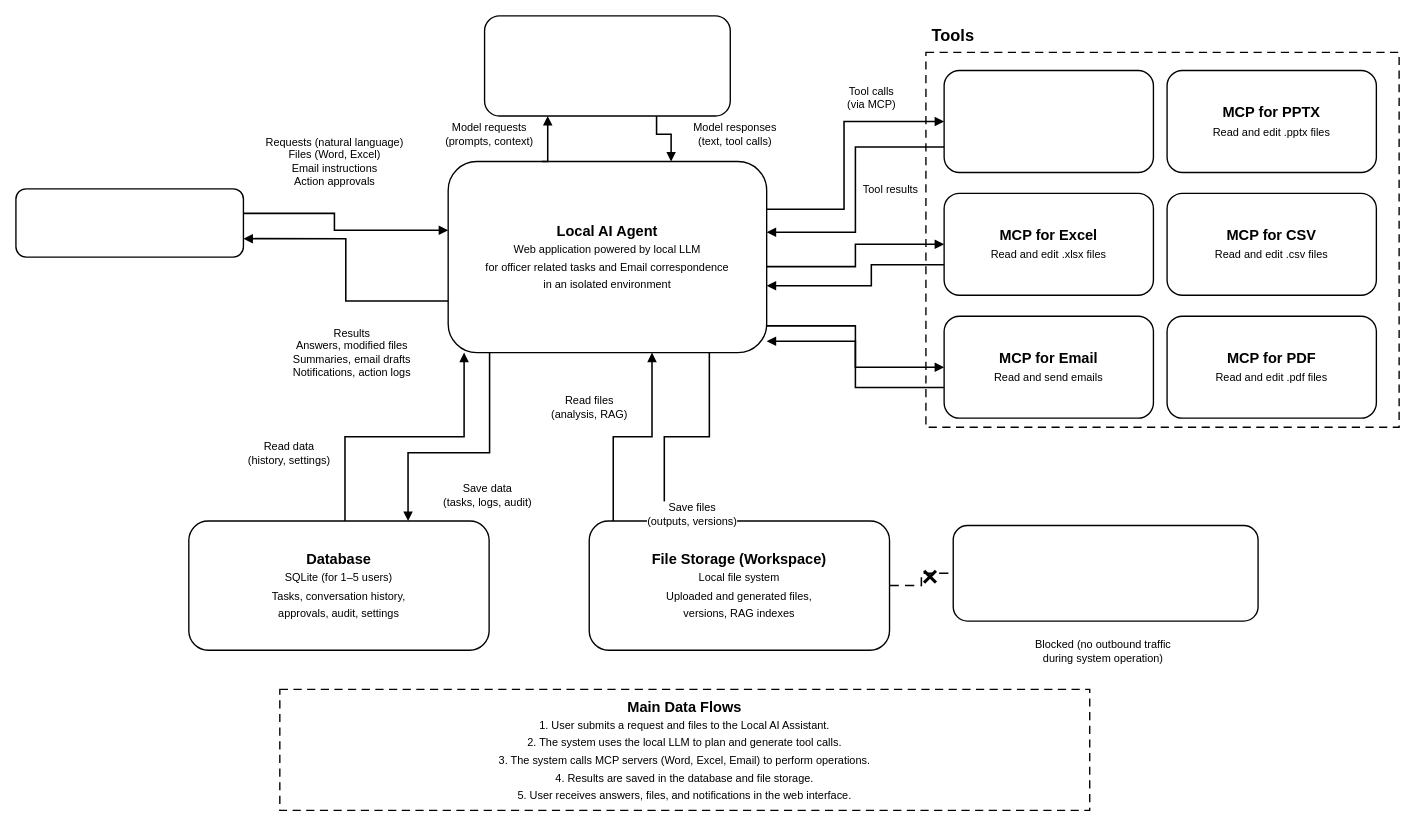
Image size: 1416x827. Some labels were removed from this diagram. The centre of each missing label's shape, as x and y in pixels:
Internet / External AI APIs e.g., OpenAI, external email BLOCKED: (x=1105, y=572)
Local LLM Ollama / vLLM Model runs on a local server / GPU: (x=607, y=65)
MCP for Word Read and edit .docx files: (x=1048, y=121)
User: (x=129, y=222)
